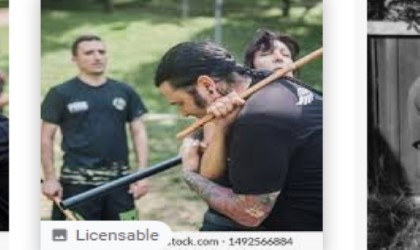baston_e: (74, 155, 176, 207), (247, 48, 317, 98)
baston_v: (57, 198, 69, 209), (173, 130, 184, 142)
